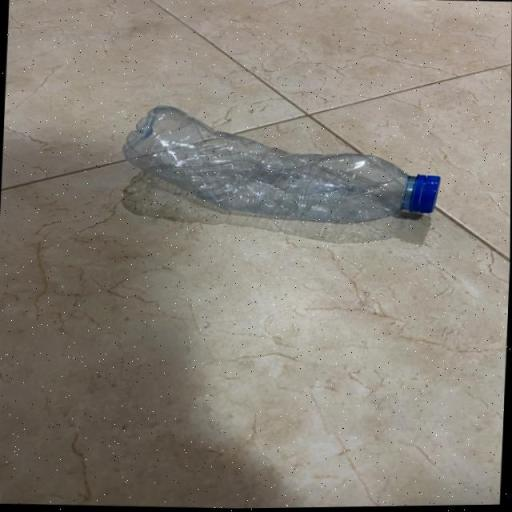plastic: (110, 96, 452, 238)
